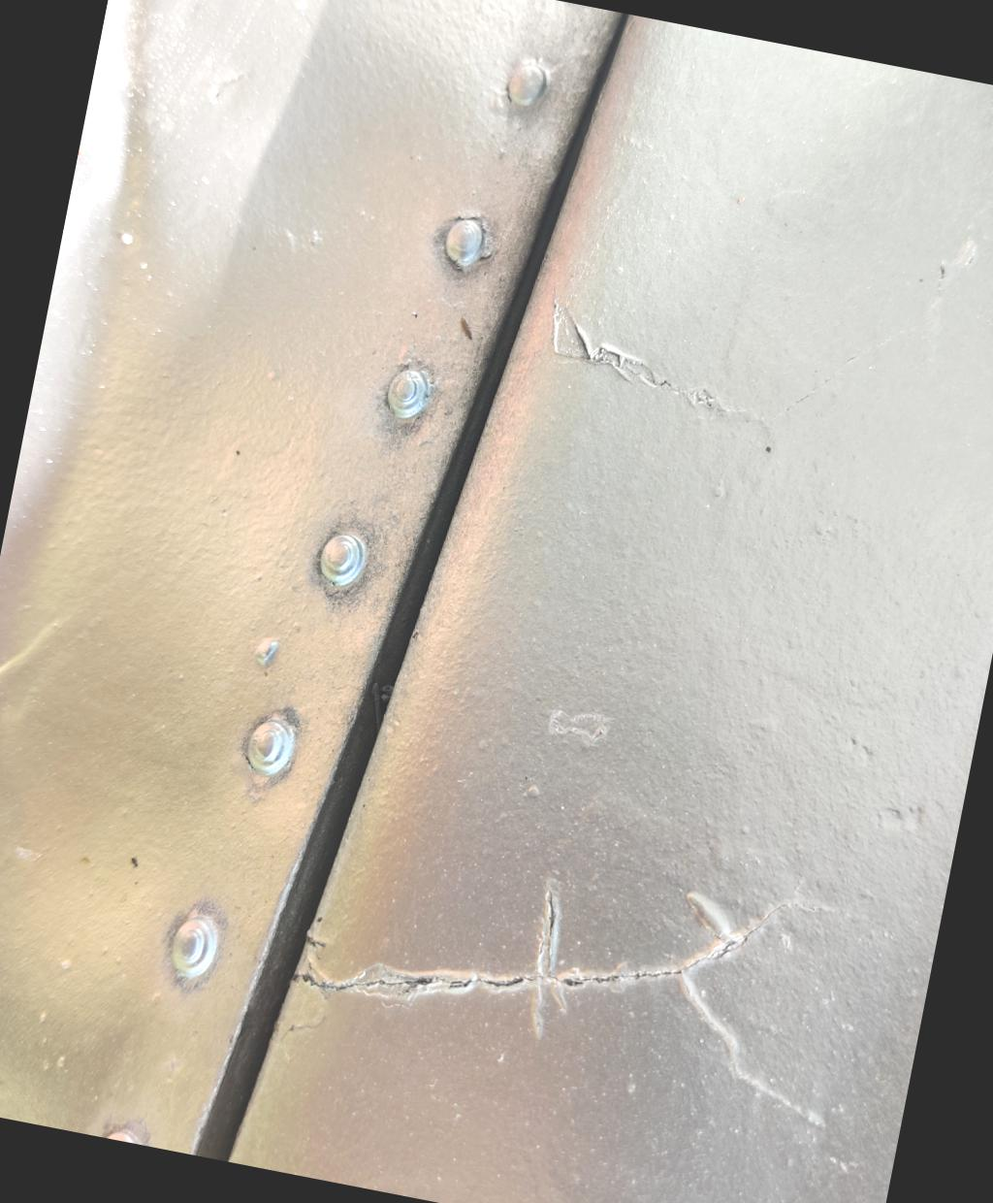crack: (637, 162, 993, 878)
